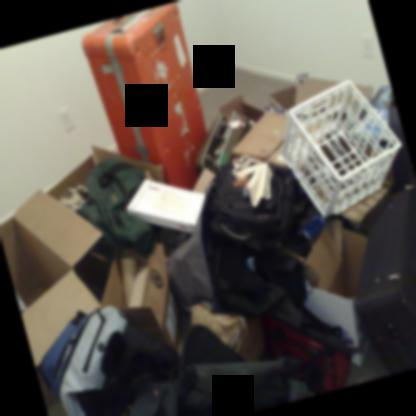backpack: (39, 305, 181, 416), (203, 155, 297, 246), (77, 158, 154, 258)
handbag: (259, 312, 365, 395)
suitcase: (82, 1, 205, 188), (130, 325, 309, 416), (352, 168, 416, 374), (197, 110, 251, 175), (388, 88, 414, 179)
